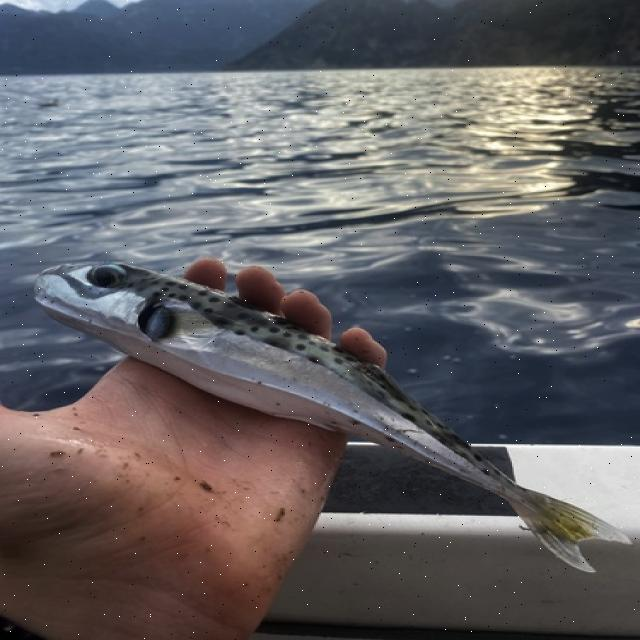Balik: (36, 264, 631, 572)
